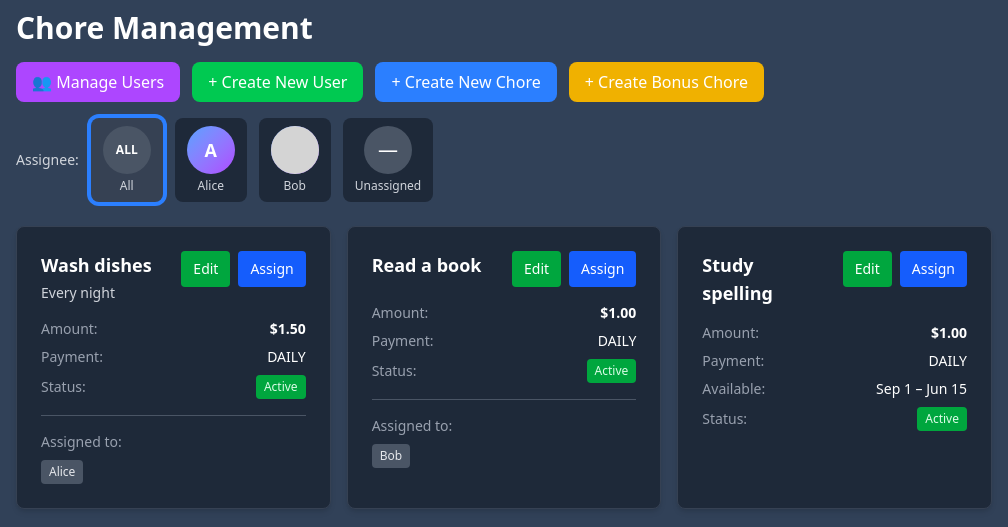
Scenario: assignee filter › shows only unassigned chores for the Unassigned chip
The image size is (1008, 527).
Expected: the heading "Wash dishes" is shown, [41,251,165,279]
Click the button "— Unassigned" at (388, 160), box [343,118,433,202]
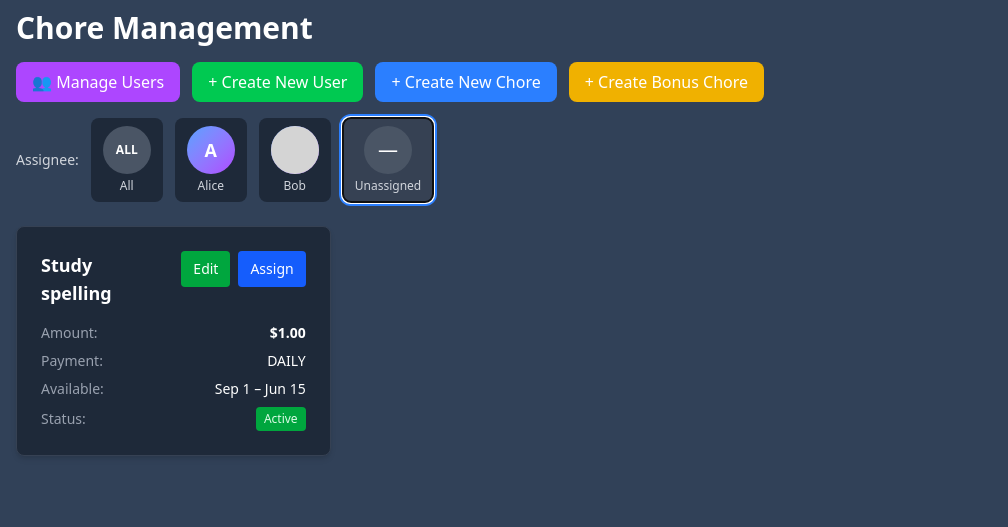
Expected: the heading "Study spelling" is shown, [41,253,112,305]
Now the heading "Wash dishes" is gone
Now the heading "Read a book" is gone
